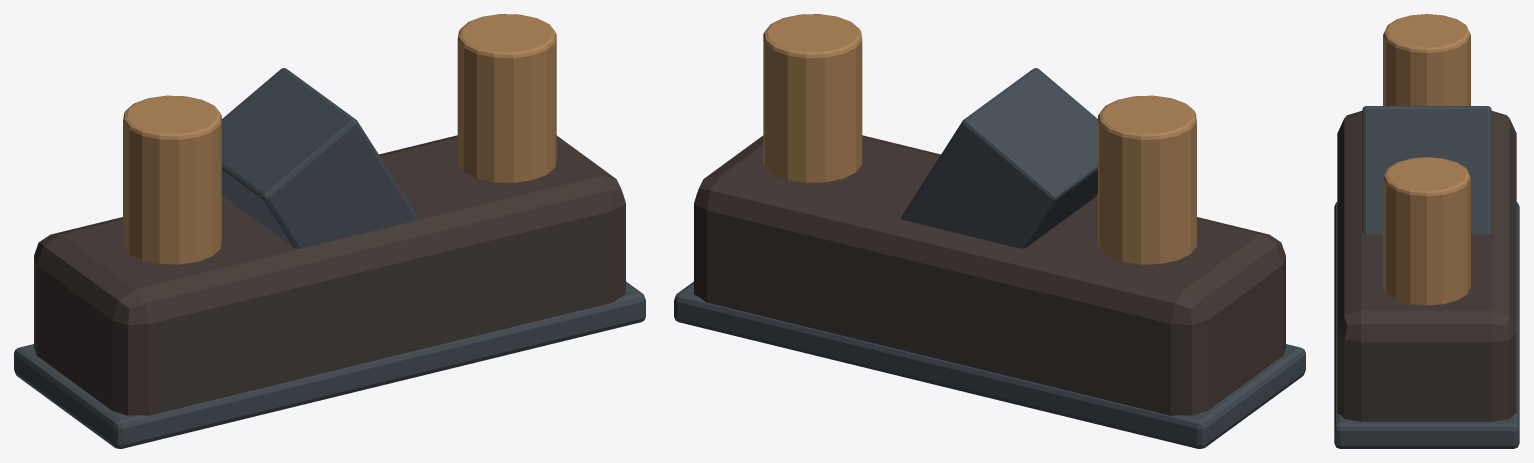
The model's file is hand_plane.glb.
3 views of the same model, side by side, from view 1: azimuth 30°, elevation 25°; view 2: azimuth 150°, elevation 25°; view 3: azimuth 270°, elevation 25° (orthographic). The views are drawn at different scales.
Visible parts, largest first — view 1: Plane body, Angled cutter, Sole, Plane grip.001, Plane grip; view 2: Plane body, Angled cutter, Sole, Plane grip.001, Plane grip; view 3: Plane body, Plane grip.001, Angled cutter, Plane grip, Sole.
Part boxes in pixels (x1,y1,x2,y2): Plane body: [34, 135, 625, 415]; Angled cutter: [222, 68, 418, 248]; Sole: [14, 281, 645, 448]; Plane grip.001: [457, 14, 556, 182]; Plane grip: [123, 95, 221, 264]; Plane body: [694, 135, 1285, 415]; Angled cutter: [901, 68, 1097, 248]; Sole: [674, 281, 1305, 448]; Plane grip.001: [763, 14, 862, 182]; Plane grip: [1098, 95, 1196, 264]; Plane body: [1337, 111, 1516, 421]; Plane grip.001: [1383, 157, 1470, 305]; Angled cutter: [1362, 106, 1491, 234]; Plane grip: [1383, 14, 1470, 105]; Sole: [1334, 202, 1519, 448].
Bounding box in the file's own units: 0.27 × 0.1325 × 0.093.
